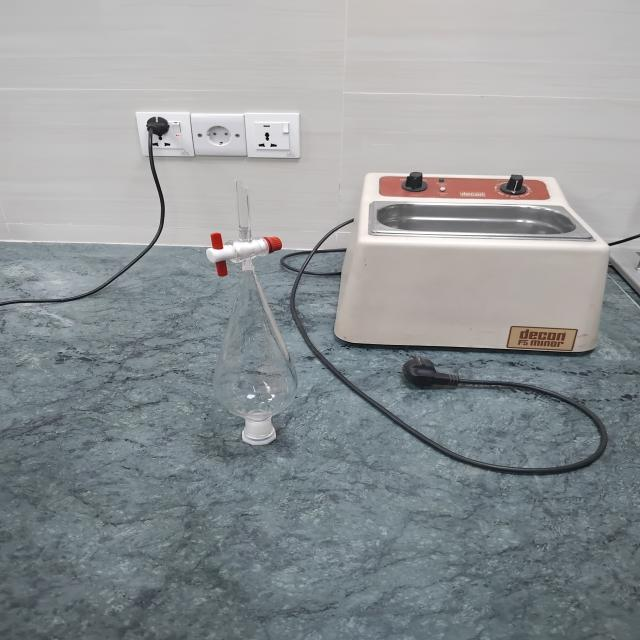Separating_Funnel: (175, 158, 332, 474)
